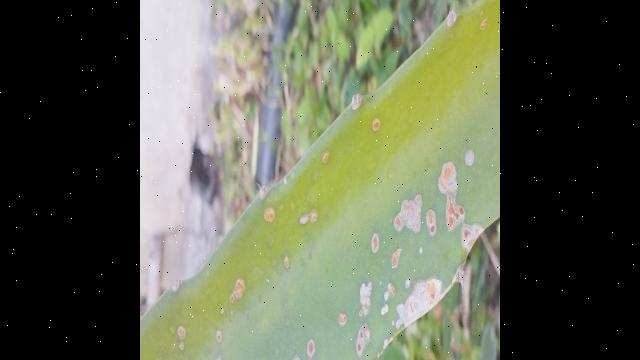stemcanker: (172, 322, 229, 352), (297, 335, 326, 360), (297, 207, 322, 229), (462, 144, 479, 170), (278, 251, 299, 272), (334, 309, 354, 330), (261, 205, 280, 226), (368, 230, 382, 256), (368, 115, 386, 132), (320, 149, 333, 165)
